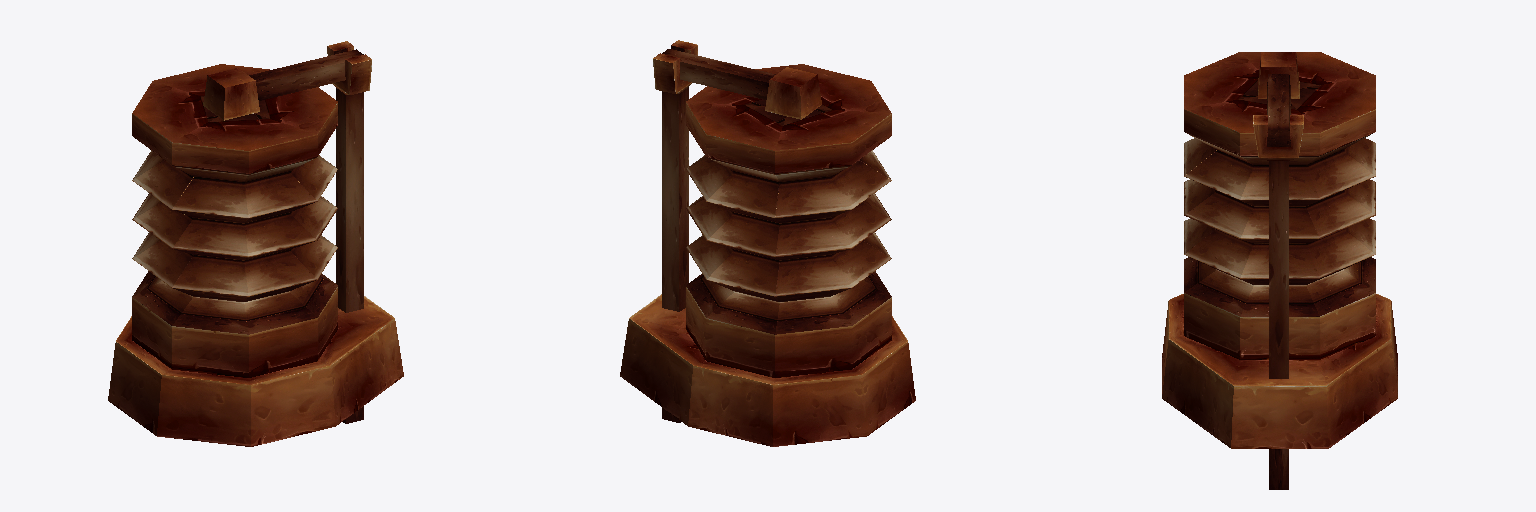
3 views of the same model, side by side, from view 1: azimuth 30°, elevation 25°; view 2: azimuth 150°, elevation 25°; view 3: azimuth 270°, elevation 25° (orthographic).
Parts seen in each view (by area): view 1: ironforgebellow; view 2: ironforgebellow; view 3: ironforgebellow.
Boxes of the visible parts, box(x1,y1,x2,y2) form: ironforgebellow: box(108, 41, 403, 446); ironforgebellow: box(620, 40, 915, 446); ironforgebellow: box(1162, 52, 1397, 489).
Bounding box in the file's own units: 7.77 × 11.08 × 6.42.
Materials: 1 (1 with a texture image).